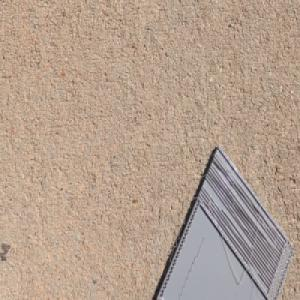PlasticPart: (153, 143, 295, 300)
